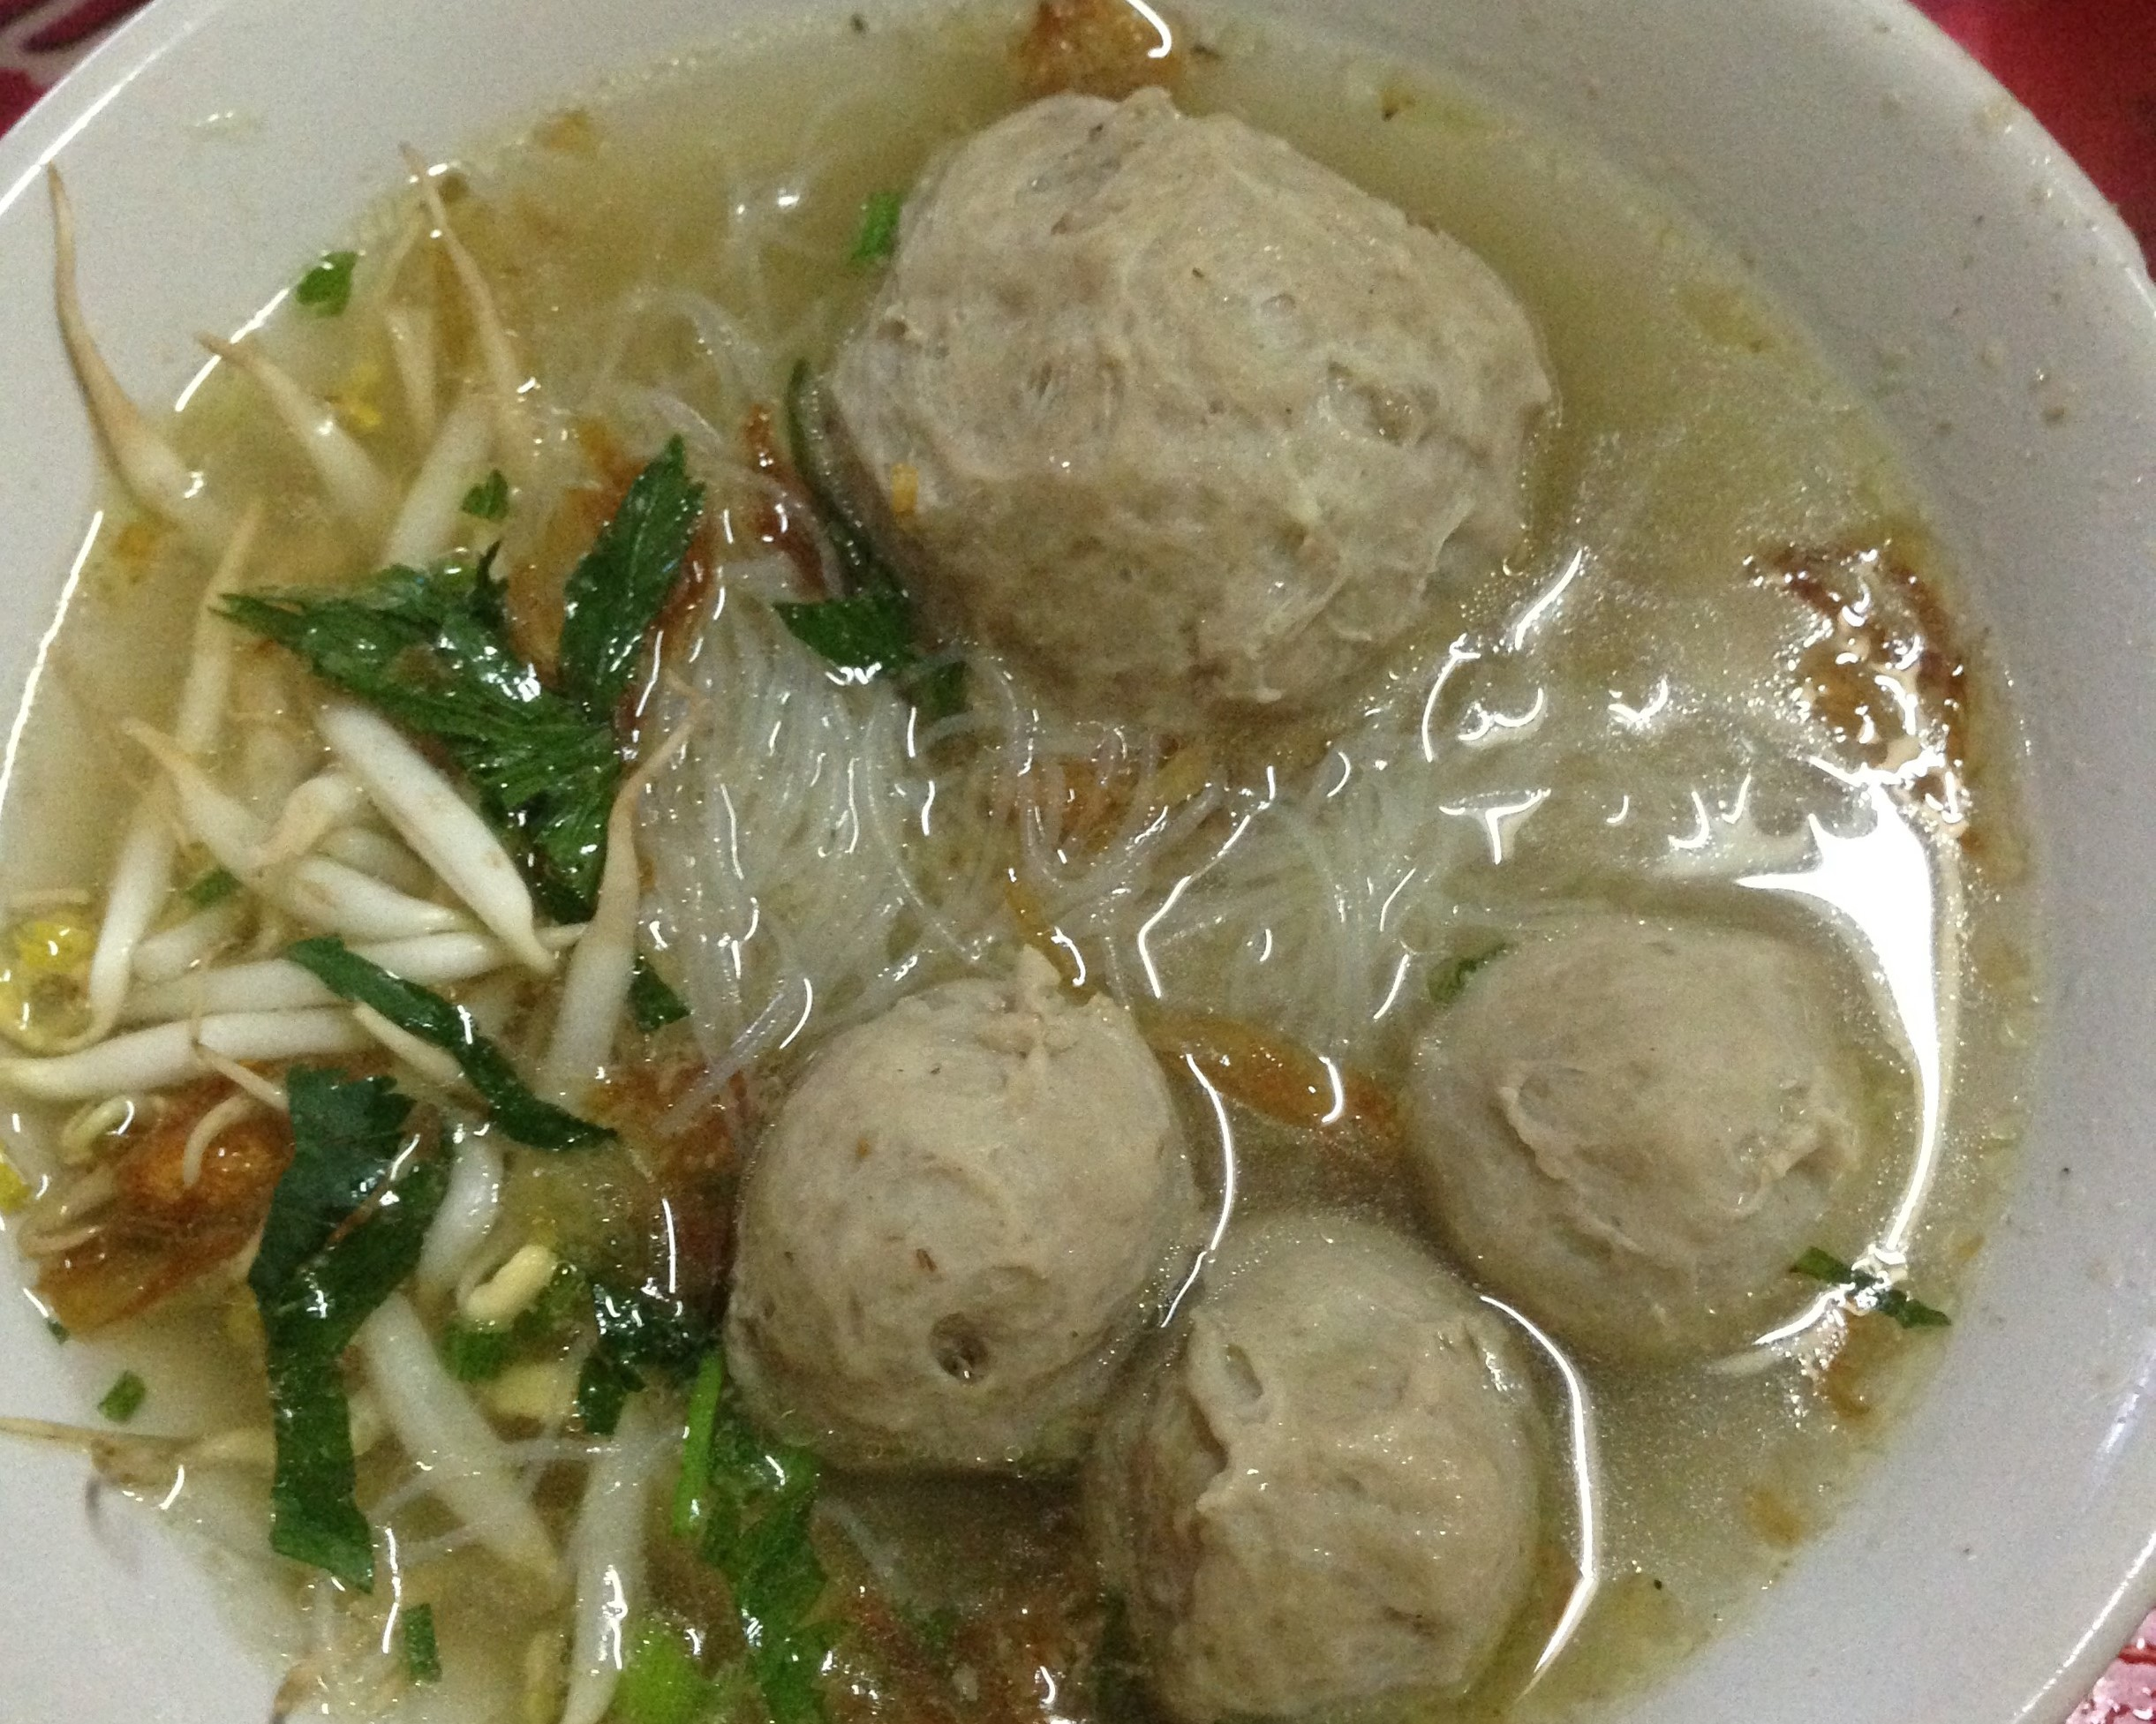bakso: (176, 95, 2021, 1611)
